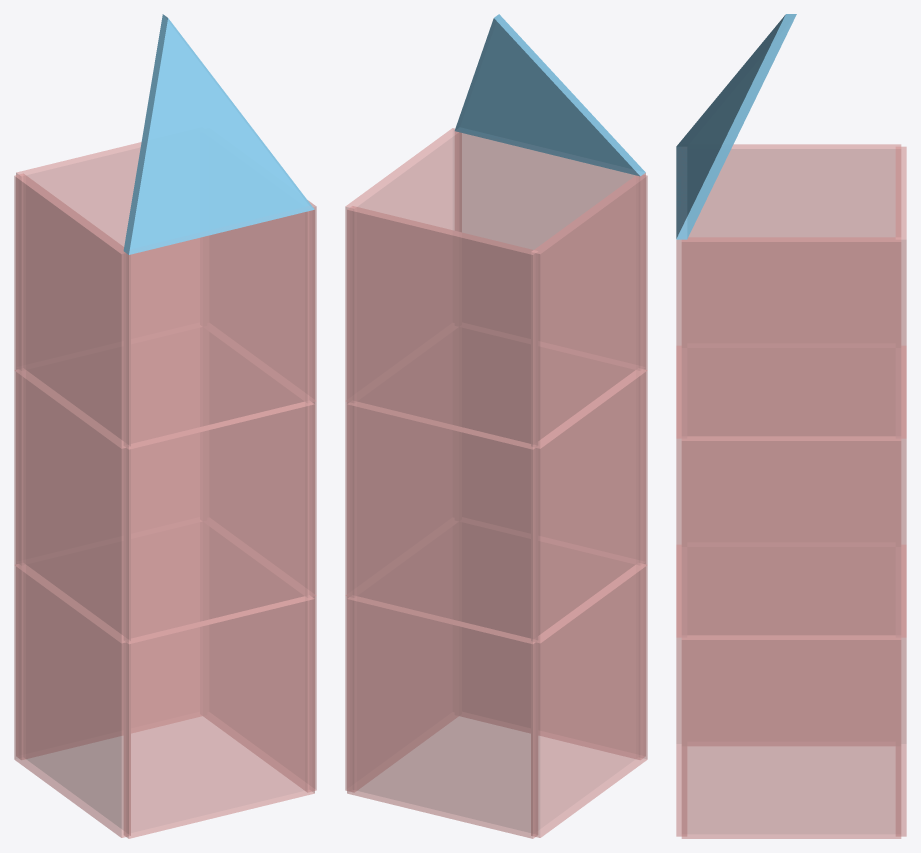
File: torre_step14.glb
3 views of the same model, side by side, from view 1: azimuth 30°, elevation 25°; view 2: azimuth 150°, elevation 25°; view 3: azimuth 270°, elevation 25° (orthographic). The views are drawn at different scales.
Visible parts, largest first — view 1: qN, qN.001, qN.002, qS, qS.001, qS.002, qW.002, qW.001, qW, tri_N, qE, qE.001 (+1 smaller); view 2: qS.002, qS, qS.001, qN.002, qN, qN.001, qW.002, qW, qW.001, qE.002, qE, qE.001 (+1 smaller); view 3: qE.002, qE, qE.001, qW.002, qW, qW.001, tri_N, qS.002, qN, qS, qN.001, qS.001 (+1 smaller).
Boxes of the visible parts, x1,y1,x2,y2 form: qN: [124, 596, 314, 838]; qN.001: [124, 402, 314, 643]; qN.002: [124, 210, 314, 449]; qS: [16, 522, 202, 759]; qS.001: [16, 328, 201, 565]; qS.002: [16, 142, 202, 370]; qW.002: [14, 173, 130, 448]; qW.001: [14, 369, 130, 643]; qW: [14, 564, 130, 837]; tri_N: [123, 14, 314, 254]; qE: [203, 525, 316, 792]; qE.001: [204, 330, 316, 597]; qS.002: [347, 206, 537, 449]; qS: [347, 596, 537, 838]; qS.001: [347, 402, 537, 643]; qN.002: [455, 131, 645, 370]; qN: [459, 522, 645, 759]; qN.001: [460, 328, 645, 565]; qW.002: [531, 174, 647, 448]; qW: [531, 564, 647, 837]; qW.001: [531, 369, 647, 643]; qE.002: [345, 128, 461, 402]; qE: [345, 525, 458, 792]; qE.001: [345, 330, 458, 597]; qE.002: [681, 237, 901, 440]; qE: [681, 635, 901, 838]; qE.001: [681, 436, 901, 639]; qW.002: [687, 144, 901, 347]; qW: [687, 547, 895, 745]; qW.001: [687, 348, 895, 546]; tri_N: [676, 14, 796, 239]; qS.002: [895, 146, 906, 438]; qN: [676, 545, 686, 836]; qS: [896, 545, 906, 836]; qN.001: [676, 346, 686, 637]; qS.001: [896, 346, 906, 637].
Size of the model in its own units: 1.05 by 3.9 by 1.05.
